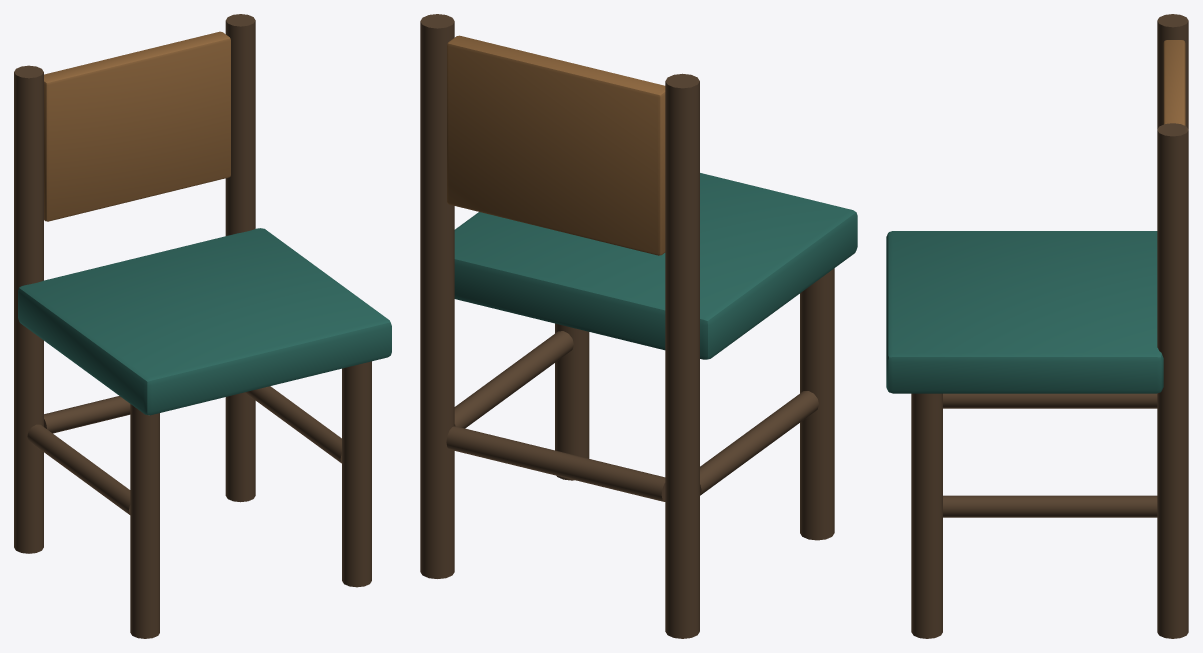
The model's file is chair.glb.
3 views of the same model, side by side, from view 1: azimuth 30°, elevation 25°; view 2: azimuth 150°, elevation 25°; view 3: azimuth 270°, elevation 25° (orthographic). The views are drawn at different scales.
Visible parts, largest first — view 1: chair; view 2: chair; view 3: chair.
Part boxes in pixels (x1,y1,x2,y2): chair: [14, 14, 391, 638]; chair: [420, 14, 857, 638]; chair: [886, 14, 1188, 638].
Bounding box in the file's own units: 0.48 × 0.88 × 0.48.
